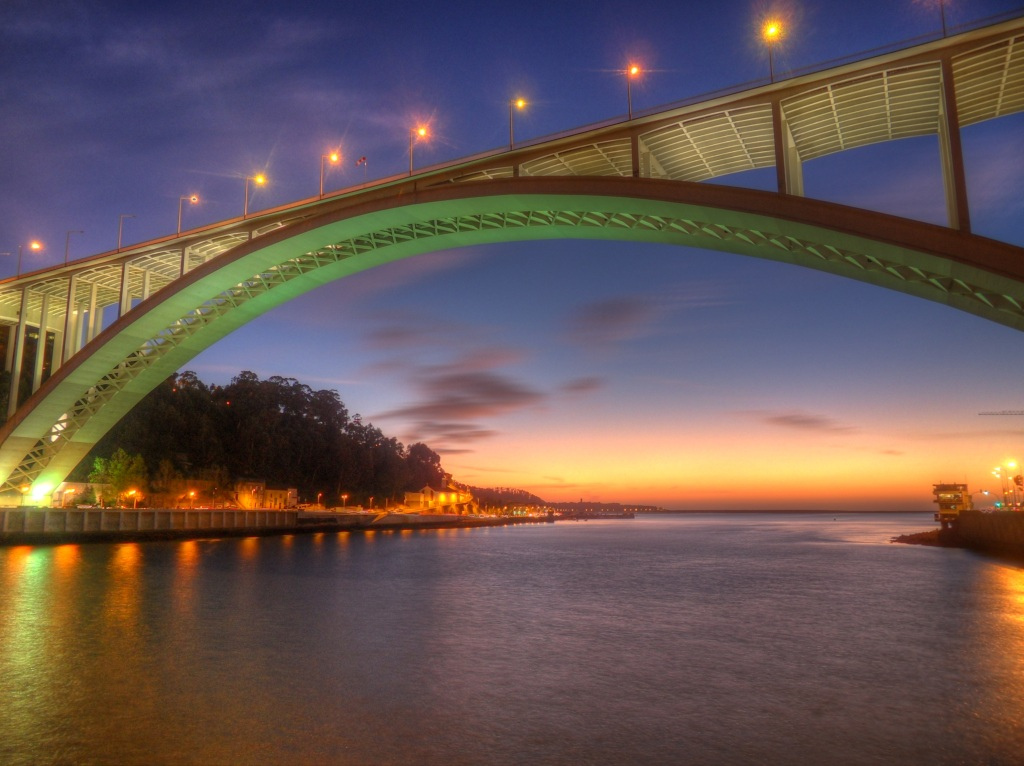arrabida: (0, 17, 1023, 507)
